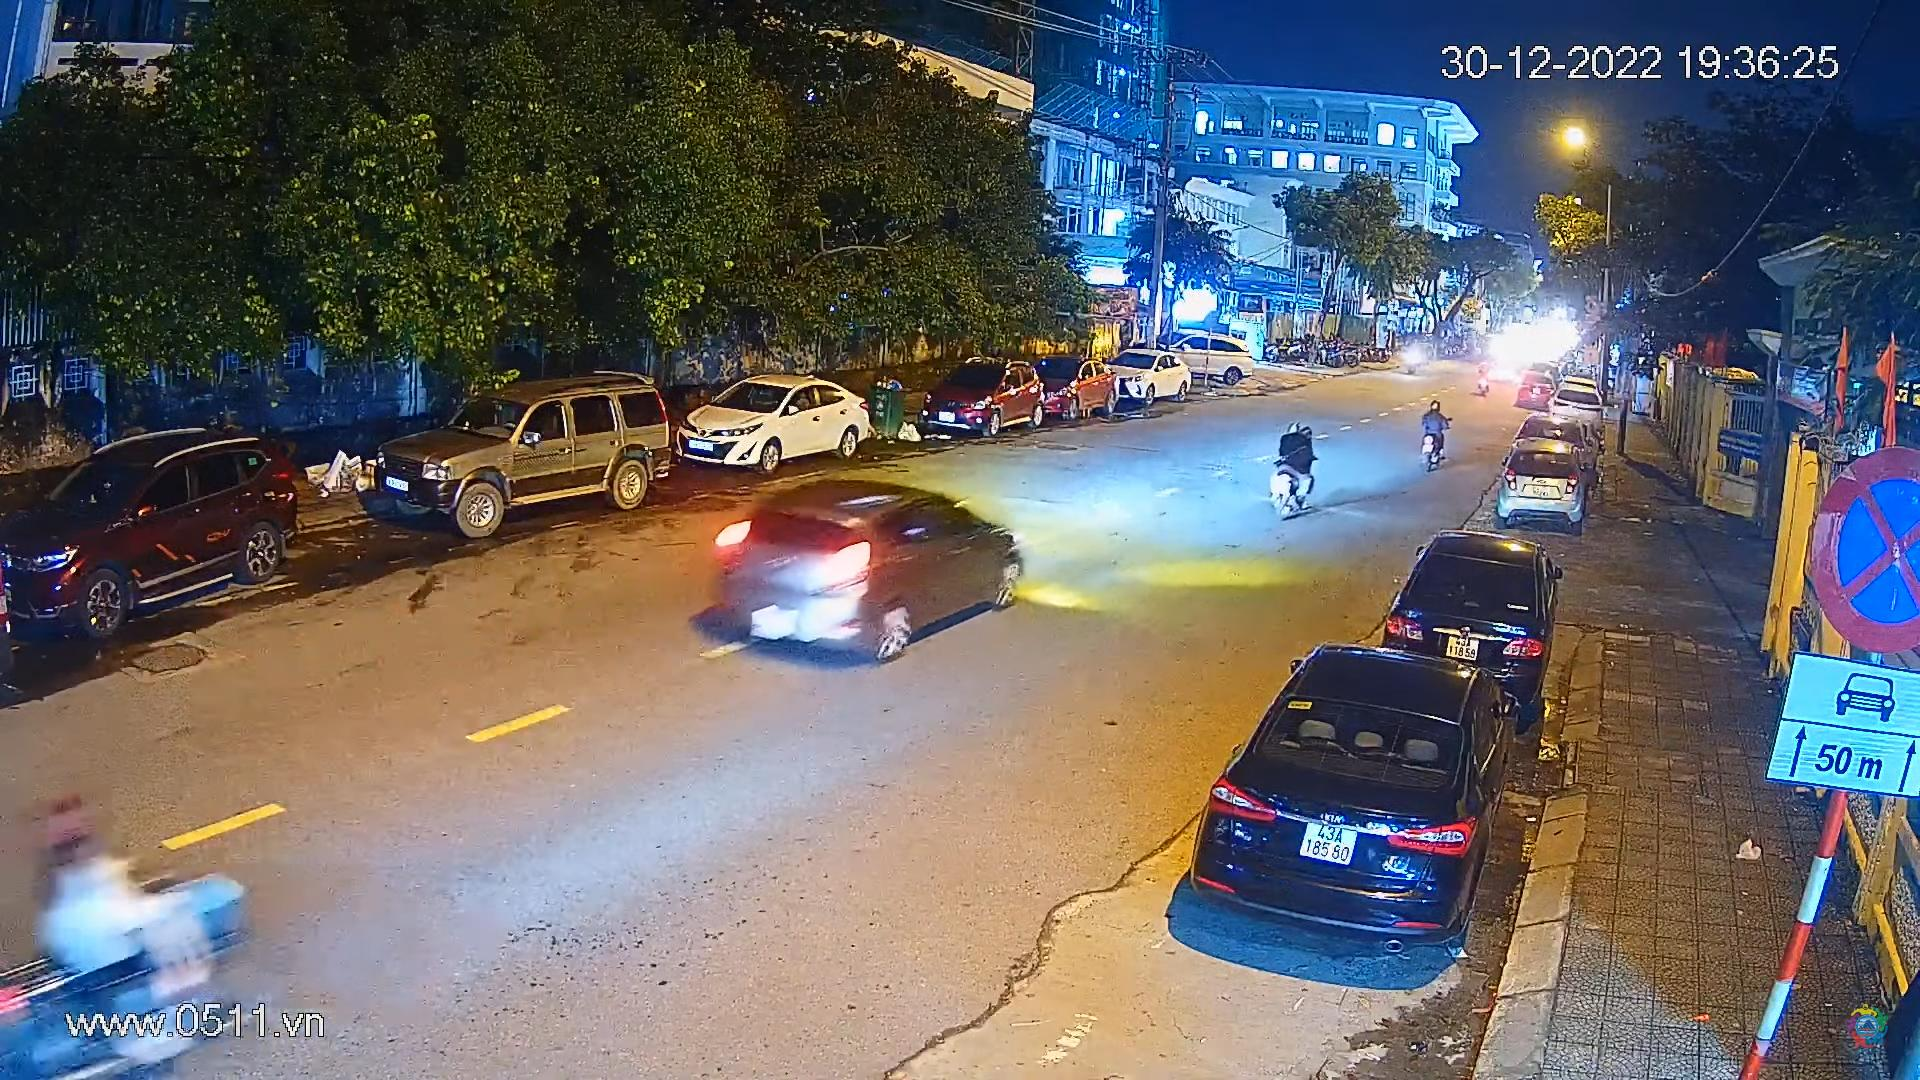car: (1192, 640, 1513, 953), (0, 421, 301, 645), (703, 465, 1030, 663), (400, 356, 691, 554), (1378, 526, 1560, 735), (675, 364, 878, 480), (910, 355, 1052, 444), (1499, 435, 1590, 524), (1097, 340, 1201, 406), (1518, 406, 1602, 481), (1035, 351, 1126, 419), (1145, 331, 1254, 388), (1513, 372, 1552, 409), (1548, 385, 1604, 410)
motorcycle: (0, 796, 255, 1079), (1257, 418, 1319, 524), (1415, 392, 1448, 471)
